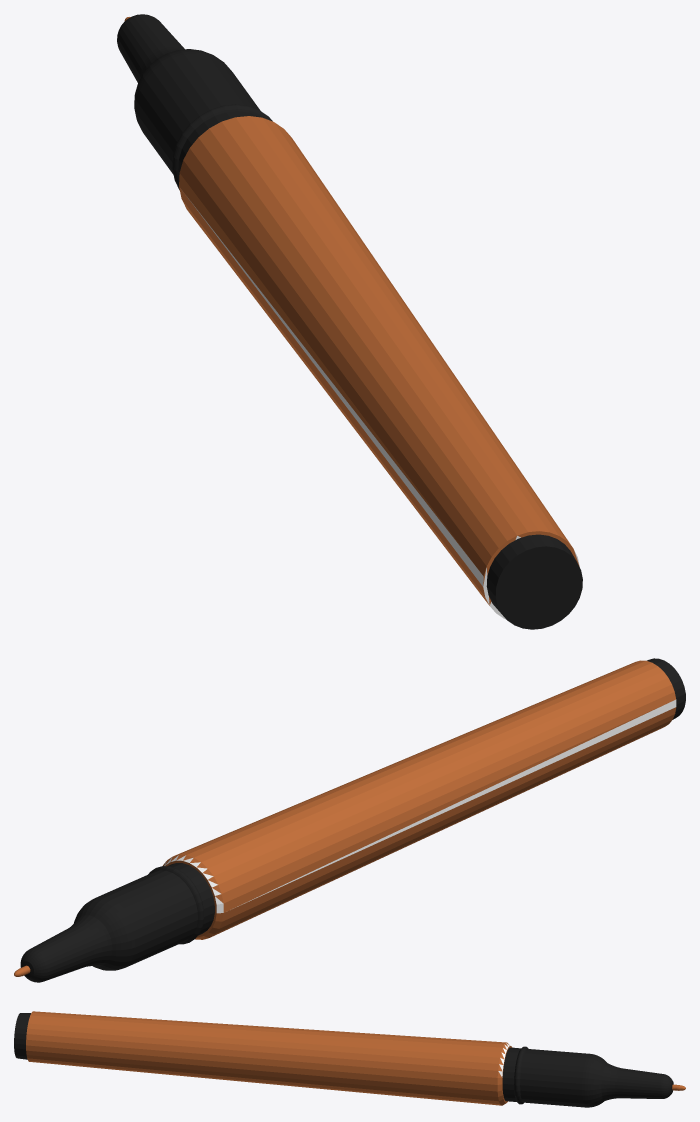
Rendered from marker1.fbx.
3 views of the same model, one above another, from view 1: azimuth 30°, elevation 25°; view 2: azimuth 150°, elevation 25°; view 3: azimuth 270°, elevation 25° (orthographic). The views are drawn at different scales.
Visible parts, largest first — view 1: marker1; view 2: marker1; view 3: marker1.
Boxes of the visible parts, x1,y1,x2,y2 form: marker1: (117, 14, 582, 629); marker1: (14, 658, 685, 982); marker1: (14, 1011, 685, 1107).
Size of the model in its own units: 40.93 by 14.9 by 156.
3 materials, 1 textured.
